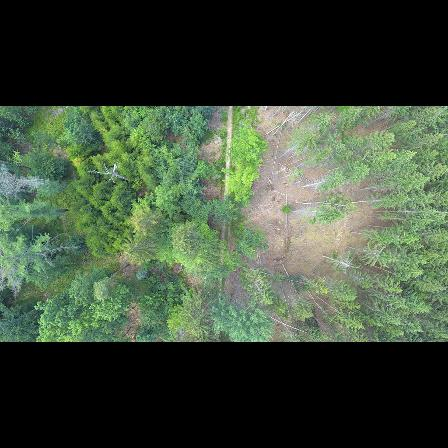Dead: (0, 163, 56, 200), (86, 161, 132, 186)
